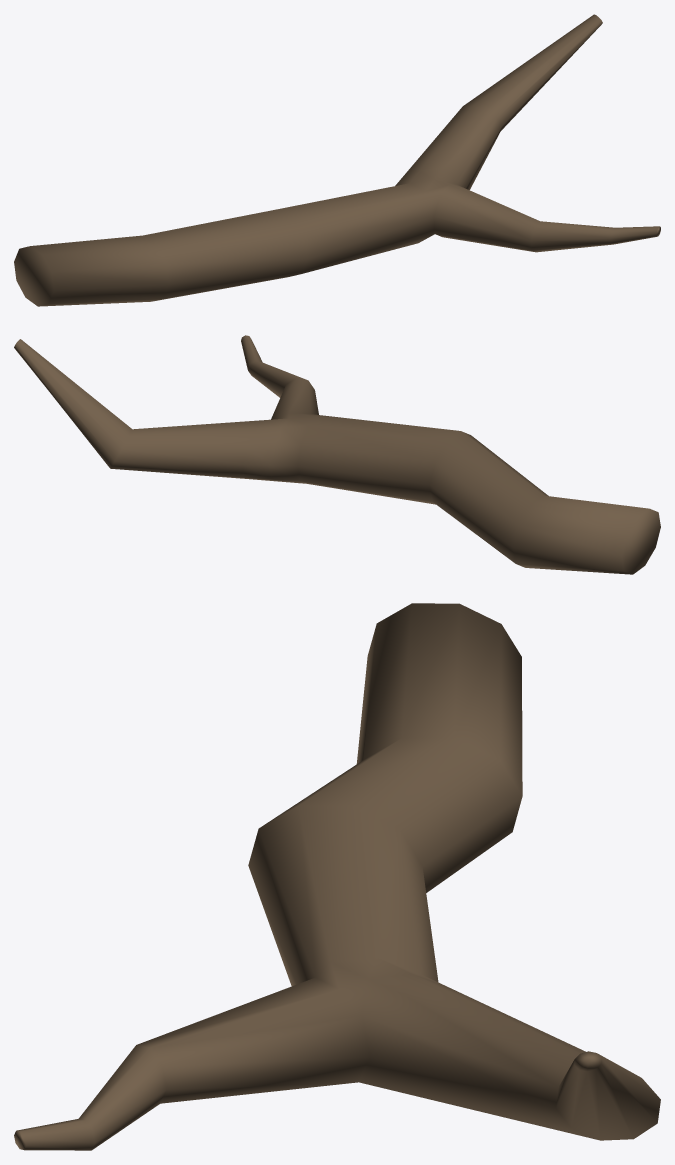
The model's file is Galhao_4.fbx.
3 renders of one model, top to bottom at view 1: azimuth 30°, elevation 25°; view 2: azimuth 150°, elevation 25°; view 3: azimuth 270°, elevation 25°, orthographic. The views are drawn at different scales.
Parts seen in each view (by area): view 1: pCylinder5; view 2: pCylinder5; view 3: pCylinder5.
Part boxes in pixels (<box>): pCylinder5: <box>14,14,660,306</box>; pCylinder5: <box>14,335,660,574</box>; pCylinder5: <box>14,603,660,1150</box>.
Size of the model in its own units: 20.71 by 4.46 by 9.98.
